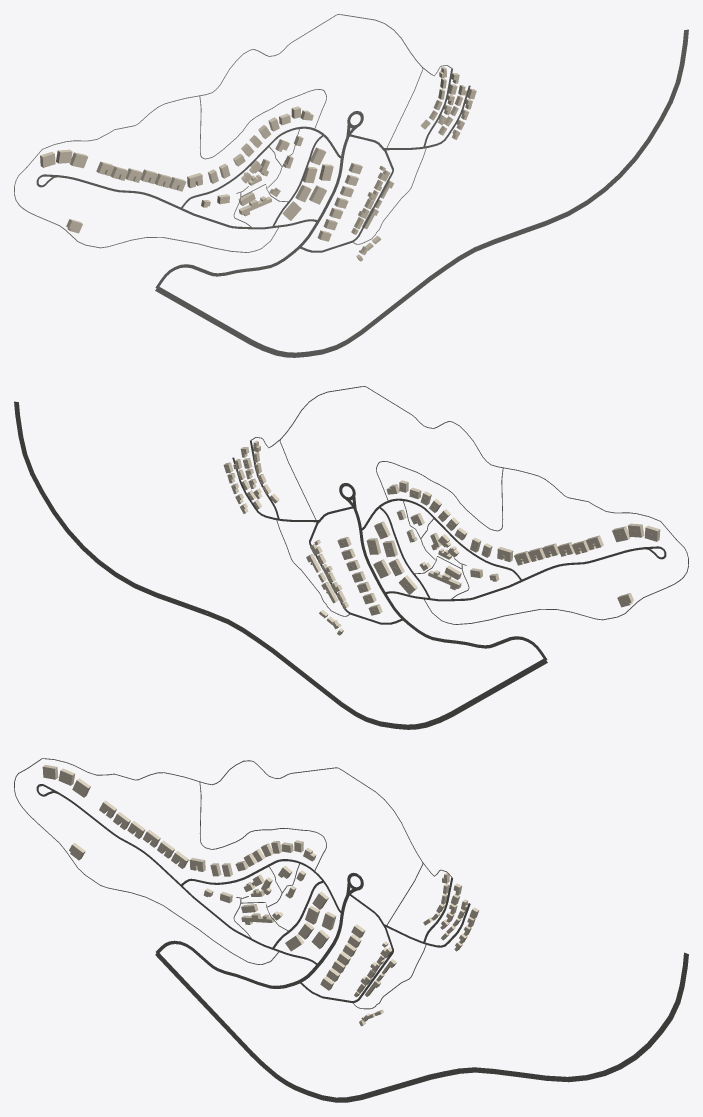
Rendered from historic-palestine-10_26_3523_3209.glb.
3 renders of one model, top to bottom at view 1: azimuth 30°, elevation 25°; view 2: azimuth 150°, elevation 25°; view 3: azimuth 330°, elevation 25°, orthographic.
Visible parts, largest first — view 1: Road 4775, Road .015, Road, Road .004; view 2: Road 4775, Road .015, Road, Road .004; view 3: Road 4775, Road .015, Road, Road .004.
Part boxes in pixels (x1,y1,x2,y2): Road 4775: [155, 29, 688, 357]; Road .015: [14, 14, 452, 252]; Road: [155, 137, 348, 288]; Road .004: [58, 175, 318, 229]; Road 4775: [14, 401, 547, 729]; Road .015: [250, 386, 688, 624]; Road: [354, 509, 547, 660]; Road .004: [384, 547, 644, 601]; Road 4775: [155, 952, 688, 1102]; Road .015: [14, 758, 452, 964]; Road: [156, 895, 348, 988]; Road .004: [58, 792, 317, 965].
Size of the model in its own units: 1093 by 521 by 8.7.
